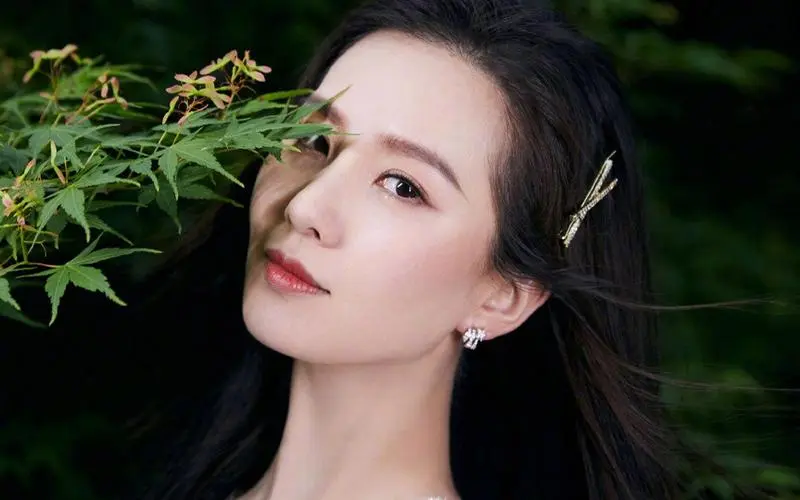withoutmask: (239, 6, 586, 380)
